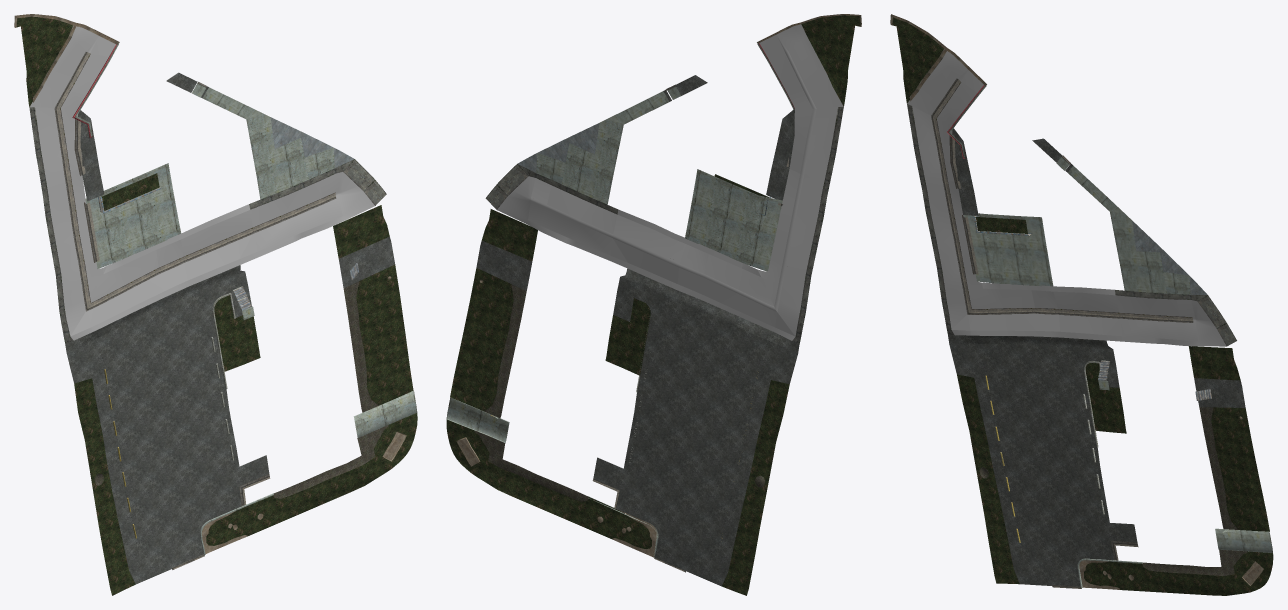
The model's file is ground 04.fbx.
3 views of the same model, side by side, from view 1: azimuth 30°, elevation 25°; view 2: azimuth 150°, elevation 25°; view 3: azimuth 330°, elevation 25° (orthographic). The views are drawn at different scales.
Visible parts, largest first — view 1: sc1_12_ground04; view 2: sc1_12_ground04; view 3: sc1_12_ground04.
Part boxes in pixels (bbox=[...]): sc1_12_ground04: bbox=[14, 14, 417, 595]; sc1_12_ground04: bbox=[446, 14, 861, 595]; sc1_12_ground04: bbox=[890, 14, 1273, 595].
Bounding box in the file's own units: 6412 × 9077 × 312.
